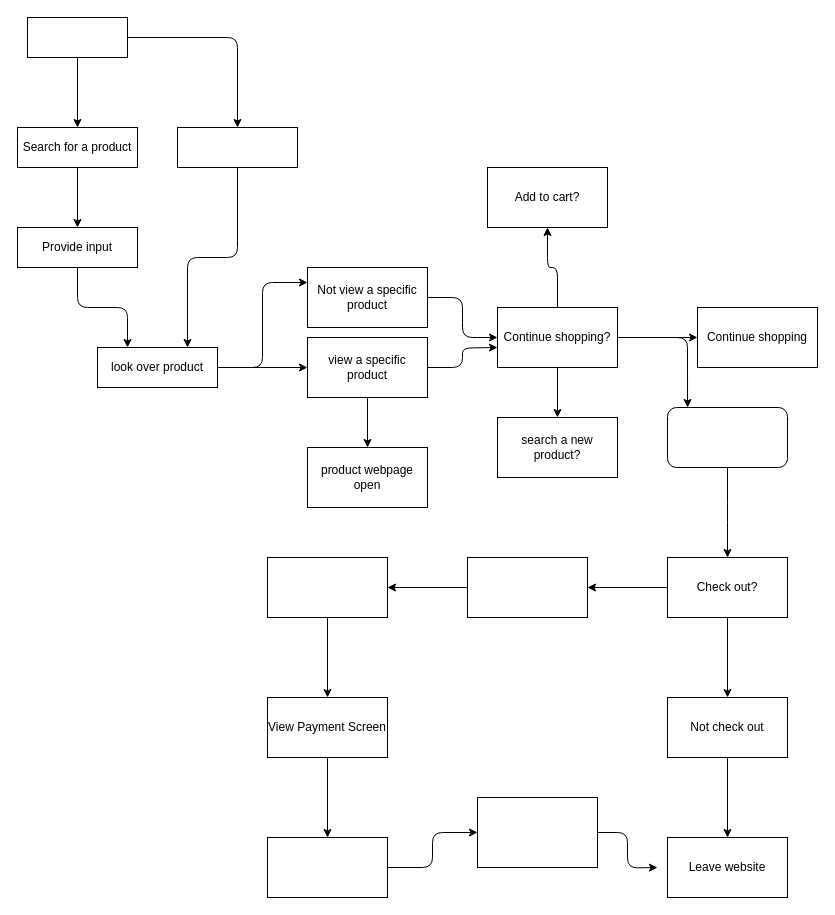
Image size: 835x915. Some labels were removed from this diagram. Each missing label, with the box of its shape:
Check out: (466, 556, 588, 618)
Confirmation screen receive an email: (476, 796, 598, 868)
Don't Continue Shopping: (666, 406, 788, 468)
Entering website: (26, 16, 128, 58)
explore product on homepage: (176, 126, 298, 168)
Payment information: (266, 836, 388, 898)
View Cart Screen: (266, 556, 388, 618)
